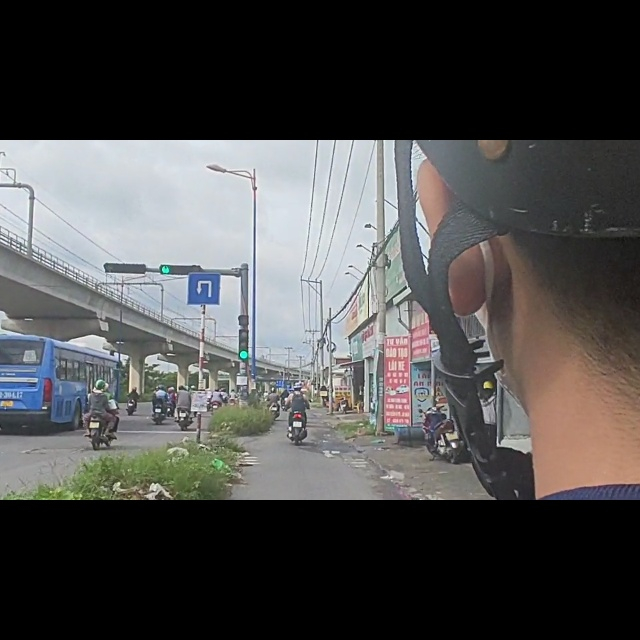bien_chi_dan: (185, 232, 223, 294)
